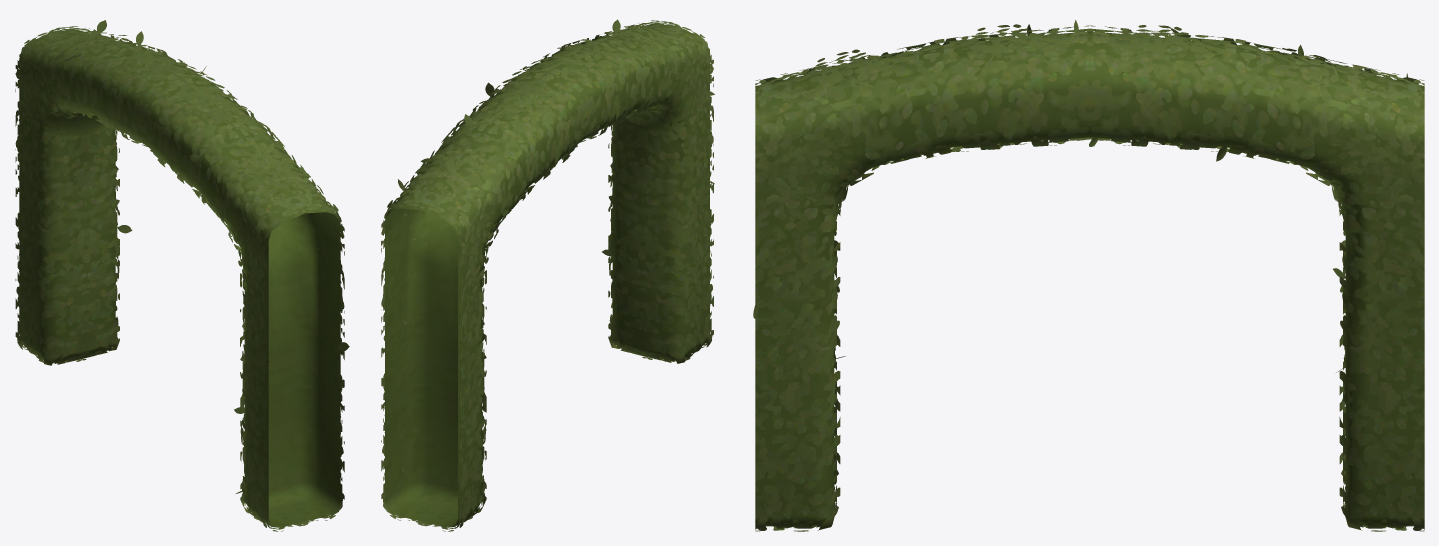
3 renders of one model, left to right at view 1: azimuth 30°, elevation 25°; view 2: azimuth 150°, elevation 25°; view 3: azimuth 270°, elevation 25°, orthographic. The views are drawn at different scales.
Parts seen in each view (by area): view 1: body0_model0_lod0_mesh0; view 2: body0_model0_lod0_mesh0; view 3: body0_model0_lod0_mesh0.
Part boxes in pixels (x1,y1,x2,y2): body0_model0_lod0_mesh0: (15,20,349,531); body0_model0_lod0_mesh0: (381,19,714,531); body0_model0_lod0_mesh0: (753,20,1424,531).
Size of the model in its own units: 47.06 by 156 by 193.
Materials: 1 (1 with a texture image).
